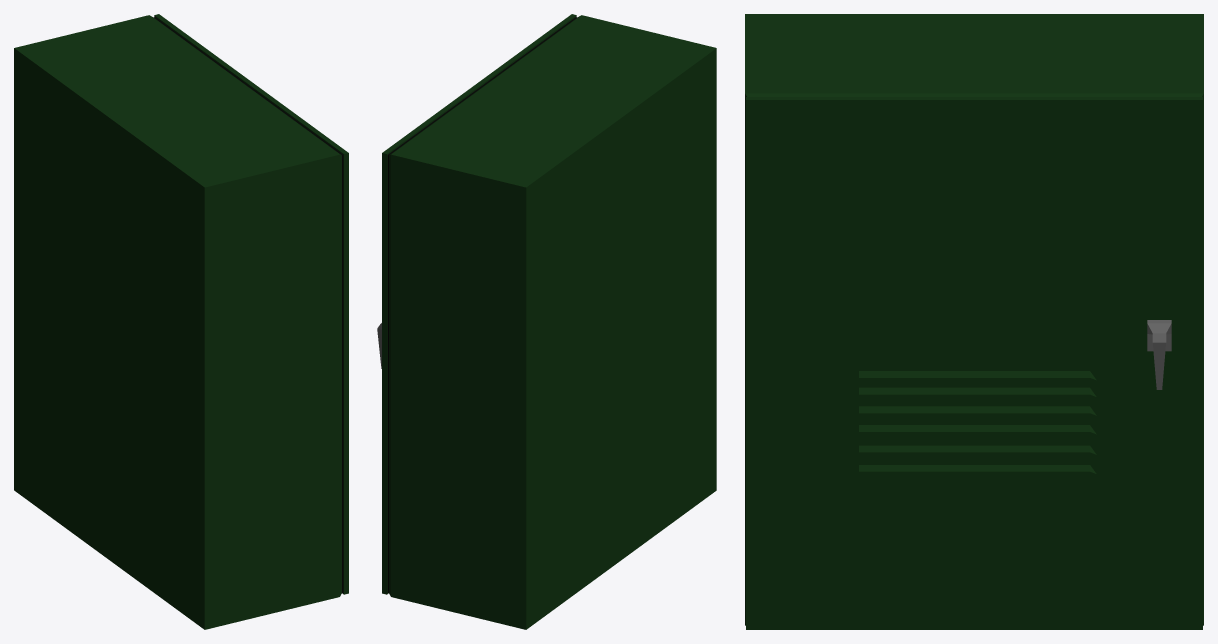
File: ElectricalCabSmall.fbx
3 renders of one model, left to right at view 1: azimuth 30°, elevation 25°; view 2: azimuth 150°, elevation 25°; view 3: azimuth 270°, elevation 25°, orthographic. The views are drawn at different scales.
Parts seen in each view (by area): view 1: ElectricalCab1; view 2: ElectricalCab1; view 3: ElectricalCab1.
Boxes of the visible parts, <box> form: ElectricalCab1: <box>14,14,348,629</box>; ElectricalCab1: <box>377,14,716,629</box>; ElectricalCab1: <box>745,14,1203,629</box>.
Size of the model in its own units: 77.91 by 200 by 156.
